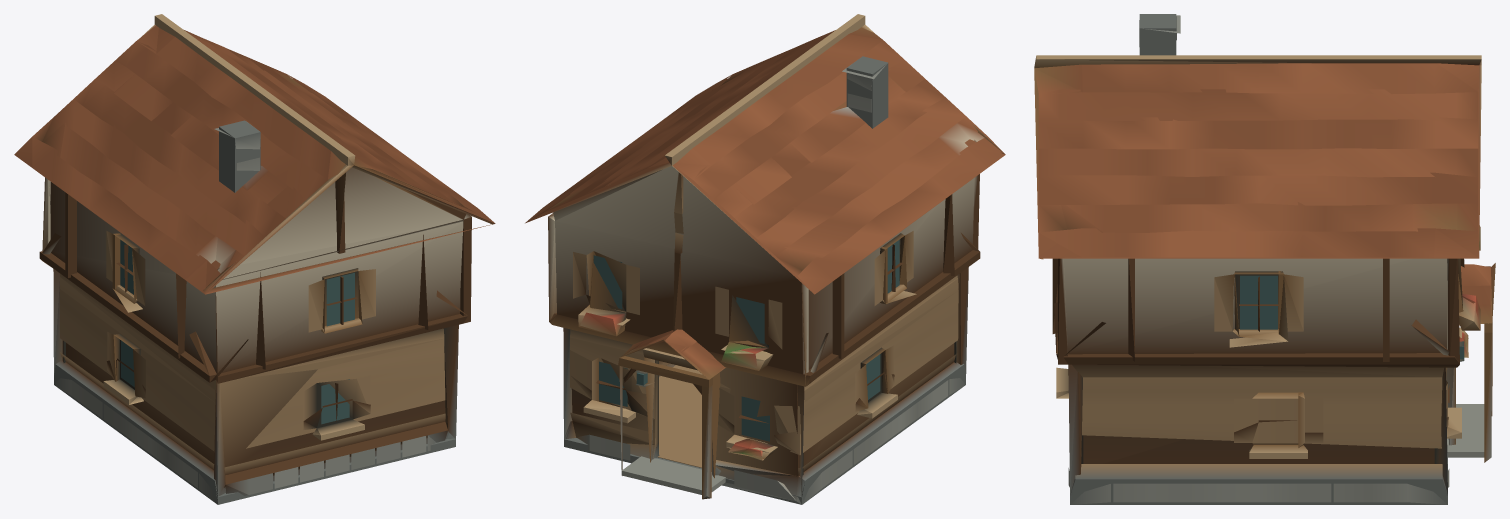
File: CabinL2.glb
3 views of the same model, side by side, from view 1: azimuth 30°, elevation 25°; view 2: azimuth 150°, elevation 25°; view 3: azimuth 270°, elevation 25° (orthographic). The views are drawn at different scales.
Parts seen in each view (by area): view 1: CabinL2_Body_P0_LOD1, HouseGlass_P0_LOD1; view 2: CabinL2_Body_P0_LOD1, HouseGlass_P0_LOD1; view 3: CabinL2_Body_P0_LOD1, HouseGlass_P0_LOD1.
Boxes of the visible parts, left/top/right/bottom form: CabinL2_Body_P0_LOD1: left=14, top=14, right=495, bottom=504; HouseGlass_P0_LOD1: left=120, top=239, right=354, bottom=424; CabinL2_Body_P0_LOD1: left=525, top=14, right=1005, bottom=504; HouseGlass_P0_LOD1: left=593, top=239, right=899, bottom=441; CabinL2_Body_P0_LOD1: left=1034, top=14, right=1495, bottom=504; HouseGlass_P0_LOD1: left=1240, top=275, right=1464, bottom=359.
Size of the model in its own units: 6.36 by 6.92 by 7.54.
